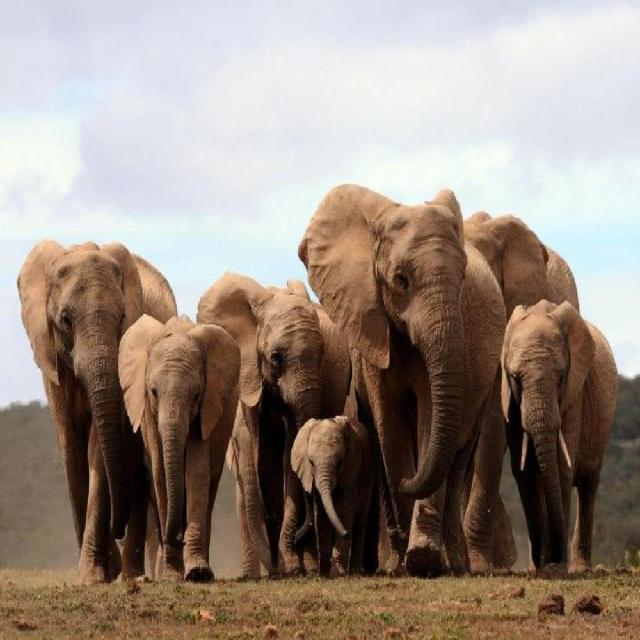Elephant: (301, 169, 505, 573), (17, 225, 178, 589), (202, 269, 354, 579), (497, 287, 620, 578), (122, 309, 239, 598), (288, 404, 368, 584)
